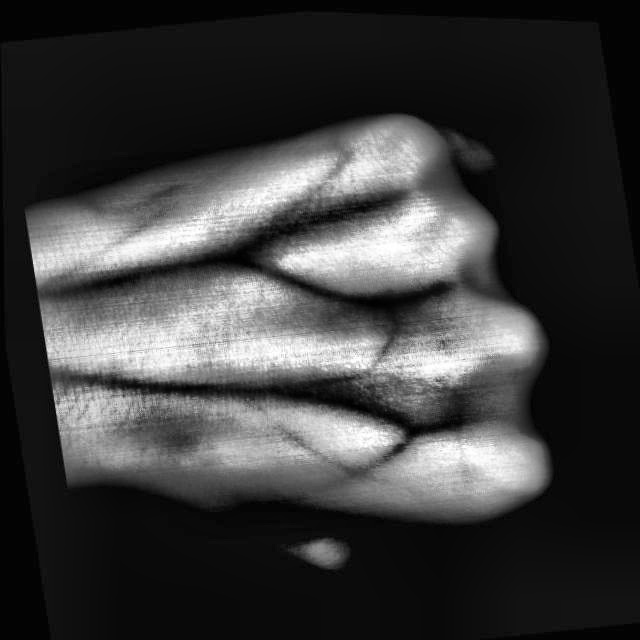Vein: (46, 240, 228, 308), (78, 366, 261, 399)
